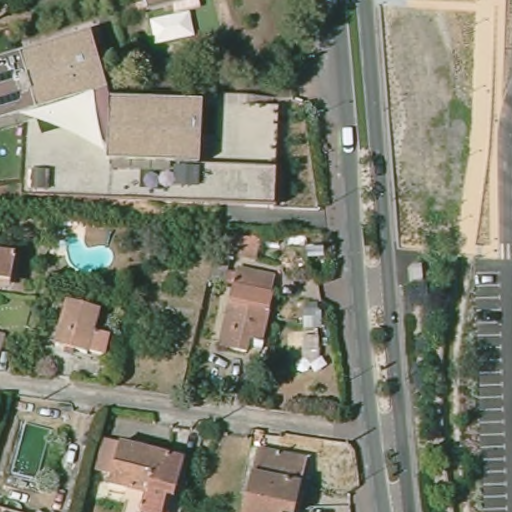pool: (58, 229, 119, 276)
